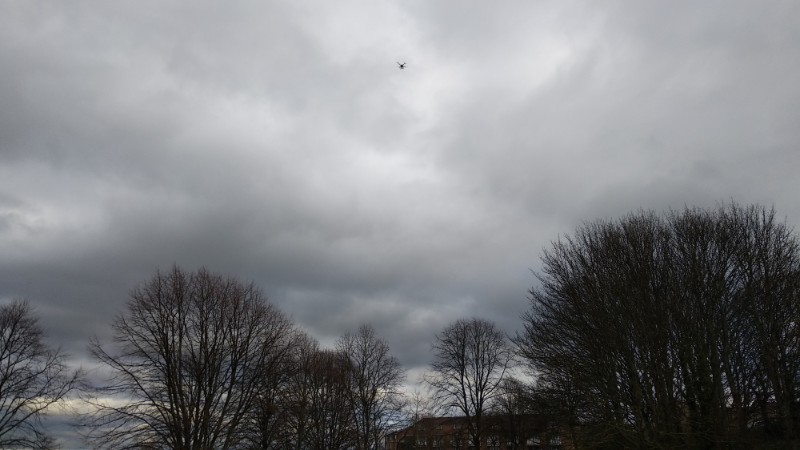drone: (396, 61, 408, 71)
